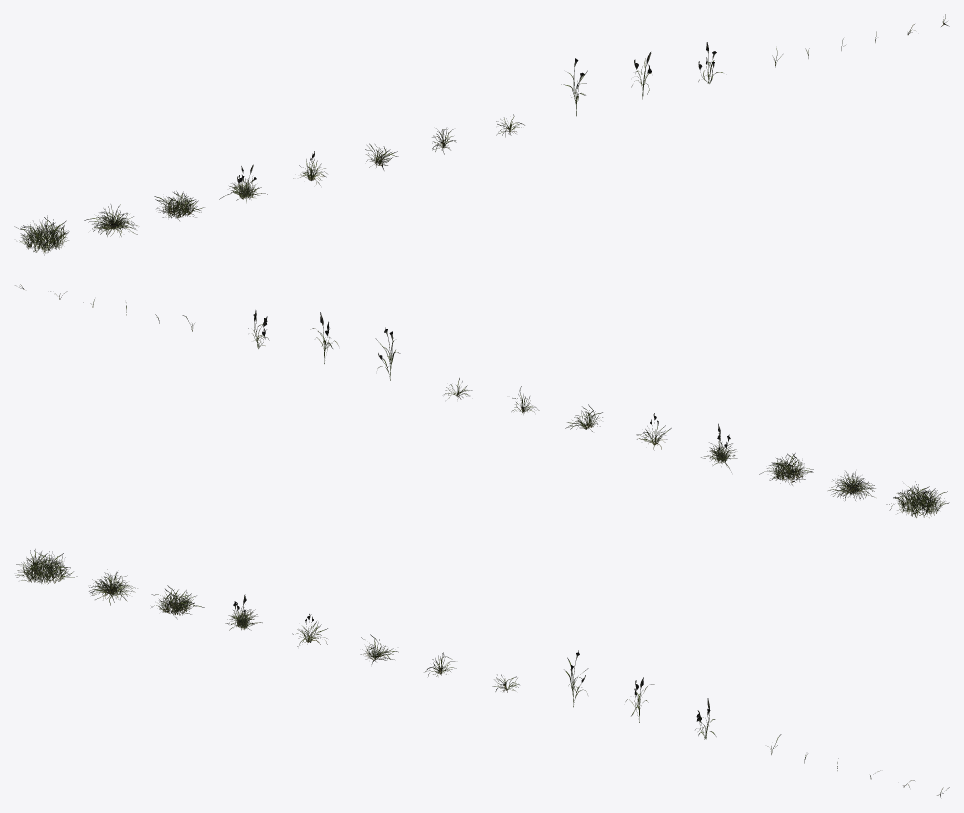
Rendered from grass_a.glb.
3 renders of one model, top to bottom at view 1: azimuth 30°, elevation 25°; view 2: azimuth 150°, elevation 25°; view 3: azimuth 330°, elevation 25°, orthographic.
Parts seen in each view (by area): view 1: grass_medium_01_large_a_LOD0, grass_medium_01_large_c_LOD0, grass_medium_01_large_b_LOD0; view 2: grass_medium_01_large_a_LOD0, grass_medium_01_large_c_LOD0, grass_medium_01_large_b_LOD0; view 3: grass_medium_01_large_a_LOD0, grass_medium_01_large_c_LOD0, grass_medium_01_large_b_LOD0.
Part boxes in pixels (<box>): grass_medium_01_large_a_LOD0: <box>14,215,69,255</box>; grass_medium_01_large_c_LOD0: <box>154,191,204,220</box>; grass_medium_01_large_b_LOD0: <box>84,204,137,236</box>; grass_medium_01_large_a_LOD0: <box>886,481,949,517</box>; grass_medium_01_large_c_LOD0: <box>759,453,813,485</box>; grass_medium_01_large_b_LOD0: <box>828,471,875,500</box>; grass_medium_01_large_a_LOD0: <box>15,549,77,584</box>; grass_medium_01_large_c_LOD0: <box>151,585,204,619</box>; grass_medium_01_large_b_LOD0: <box>89,569,137,605</box>.
Bounding box in the file's own units: 5.6 × 0.3426 × 0.3266.
Materials: 1 (1 with a texture image).
